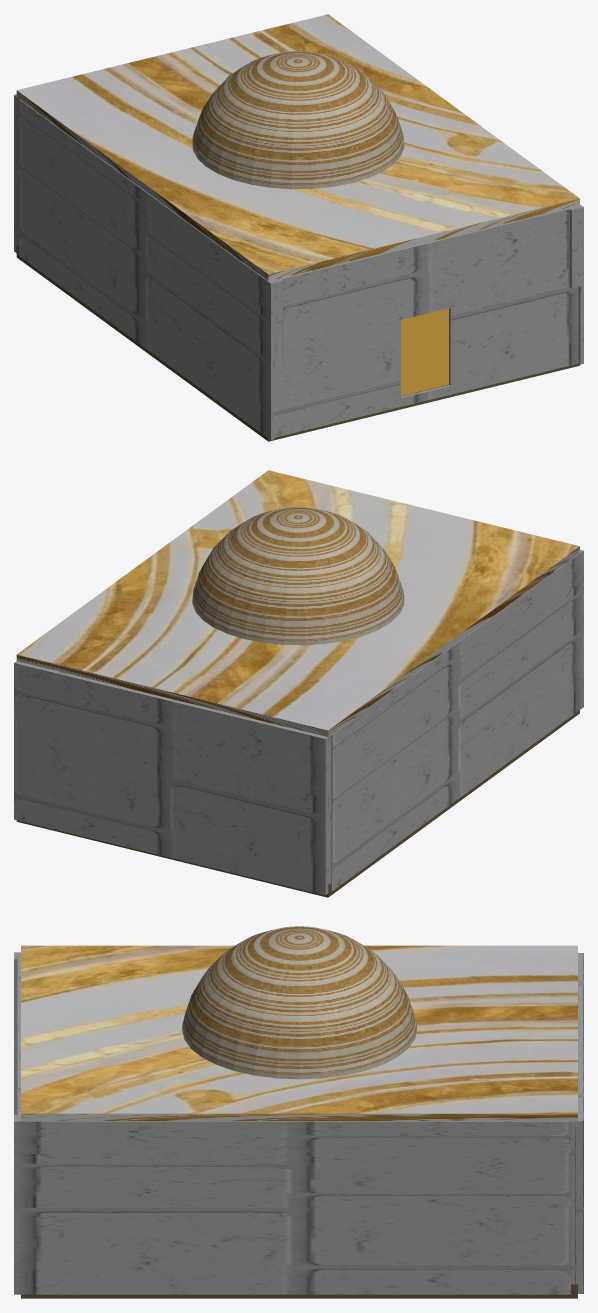
Rendered from AIB_King_Of_Diamonds.glb.
3 renders of one model, top to bottom at view 1: azimuth 30°, elevation 25°; view 2: azimuth 150°, elevation 25°; view 3: azimuth 270°, elevation 25°, orthographic. The views are drawn at different scales.
Parts seen in each view (by area): view 1: Walls, Roof, Supreme_Ground; view 2: Walls, Roof, Supreme_Ground; view 3: Walls, Roof, Supreme_Ground.
Boxes of the visible parts, <box> form: Walls: <box>14,94,583,439</box>; Roof: <box>16,14,579,280</box>; Supreme_Ground: <box>16,245,579,441</box>; Walls: <box>14,550,583,895</box>; Roof: <box>16,470,579,742</box>; Supreme_Ground: <box>16,710,579,897</box>; Walls: <box>14,952,583,1294</box>; Roof: <box>21,926,577,1127</box>; Supreme_Ground: <box>21,1284,577,1298</box>.
Bounding box in the file's own units: 50.26 × 38.64 × 71.63.
Materials: 14 (6 with a texture image).
